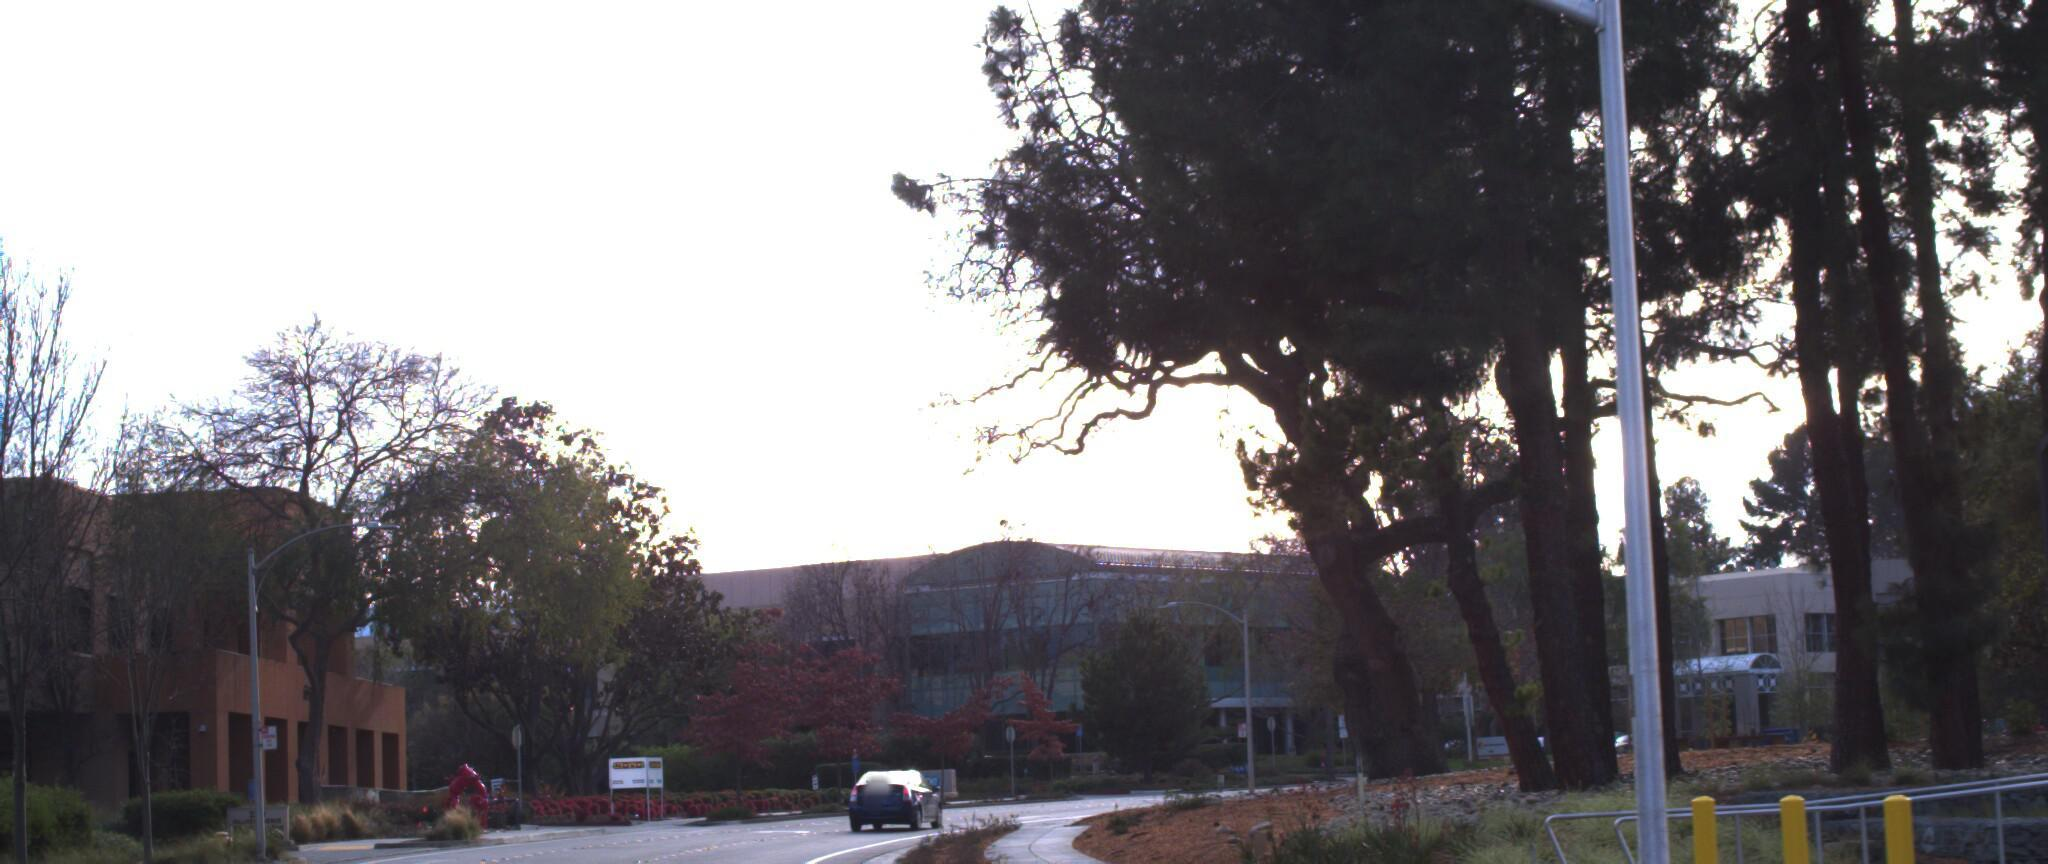car: (845, 764, 952, 838)
